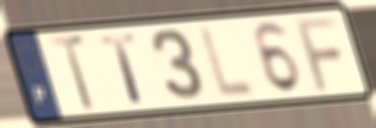3: (150, 27, 206, 104)
6: (251, 19, 305, 96)
F: (292, 14, 343, 93)
L: (196, 22, 260, 102)
T: (47, 32, 98, 114), (97, 31, 147, 106)
